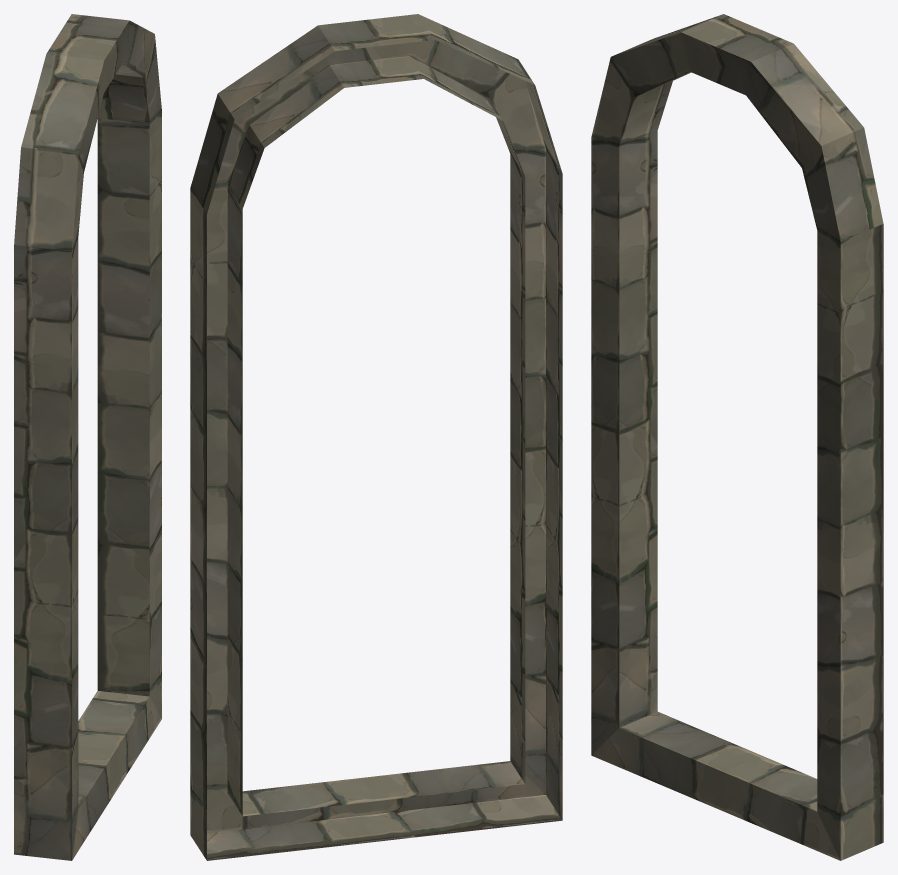
The model's file is C_Window.fbx.
3 renders of one model, left to right at view 1: azimuth 30°, elevation 25°; view 2: azimuth 150°, elevation 25°; view 3: azimuth 270°, elevation 25°, orthographic. The views are drawn at different scales.
Visible parts, largest first — view 1: C_Window; view 2: C_Window; view 3: C_Window.
Part boxes in pixels (x1,y1,x2,y2): C_Window: (14, 14, 161, 860); C_Window: (190, 14, 562, 860); C_Window: (591, 14, 883, 860).
Size of the model in its own units: 453 by 1302 by 453.
